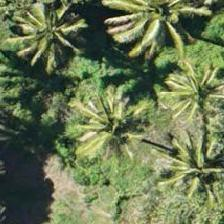coconut_tree: (62, 76, 152, 166), (150, 60, 223, 150), (151, 115, 223, 205), (0, 0, 90, 69), (105, 0, 195, 45)
